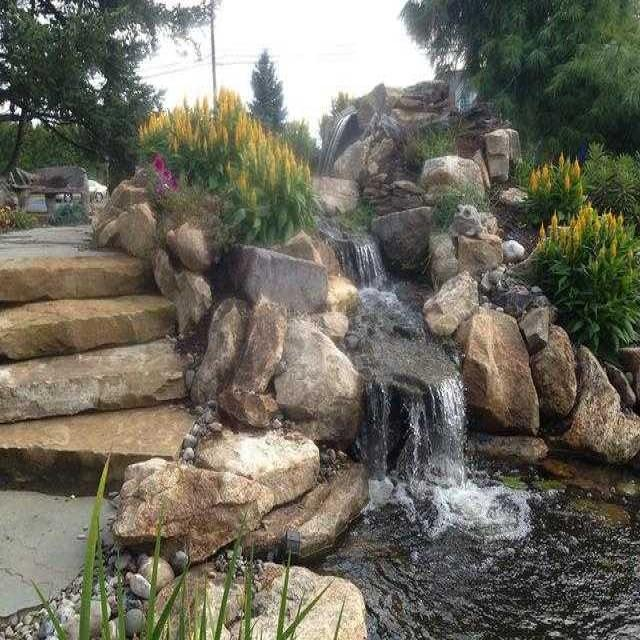Ponds: (123, 80, 640, 640)
